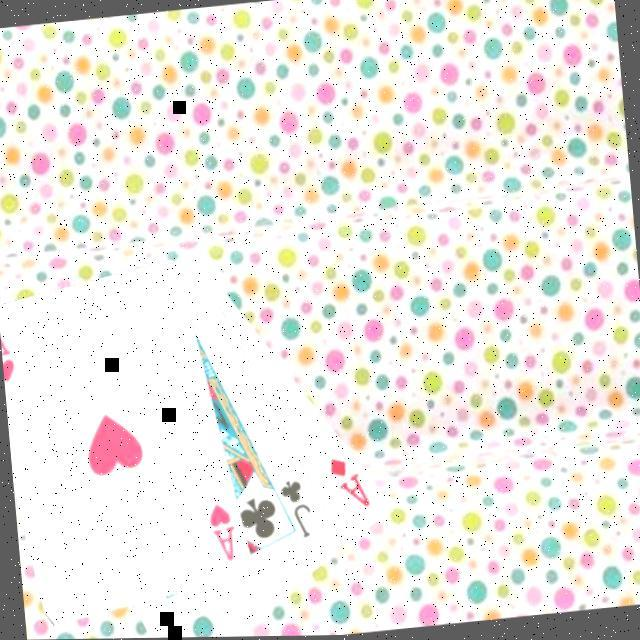AD: (324, 452, 373, 516)
AH: (203, 500, 240, 568), (0, 319, 18, 386)
JC: (274, 476, 316, 546)
